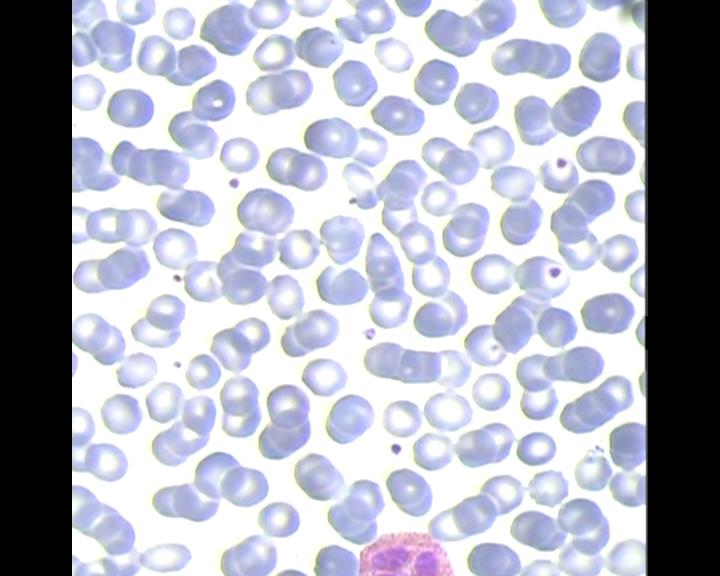eosi: (353, 525, 452, 576)
